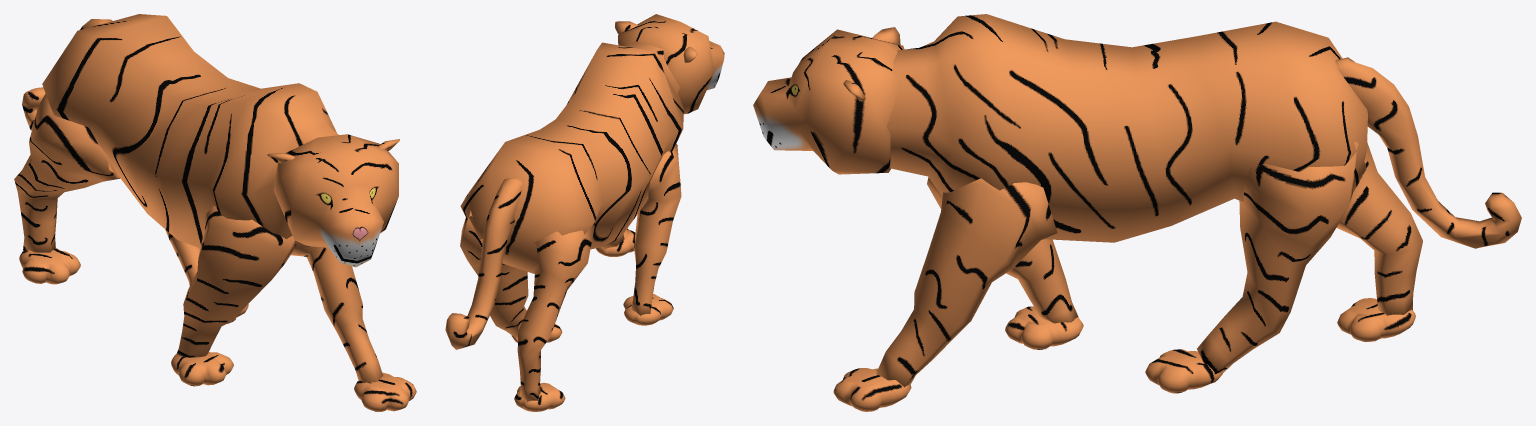
File: tigerModel3.fbx
3 views of the same model, side by side, from view 1: azimuth 30°, elevation 25°; view 2: azimuth 150°, elevation 25°; view 3: azimuth 270°, elevation 25° (orthographic). The views are drawn at different scales.
Parts seen in each view (by area): view 1: body; view 2: body; view 3: body.
Boxes of the visible parts, x1,y1,x2,y2 form: body: (14,14,416,411); body: (445,14,724,411); body: (753,14,1521,411).
Bounding box in the file's own units: 246 × 370 × 760.
1 material, 1 textured.
